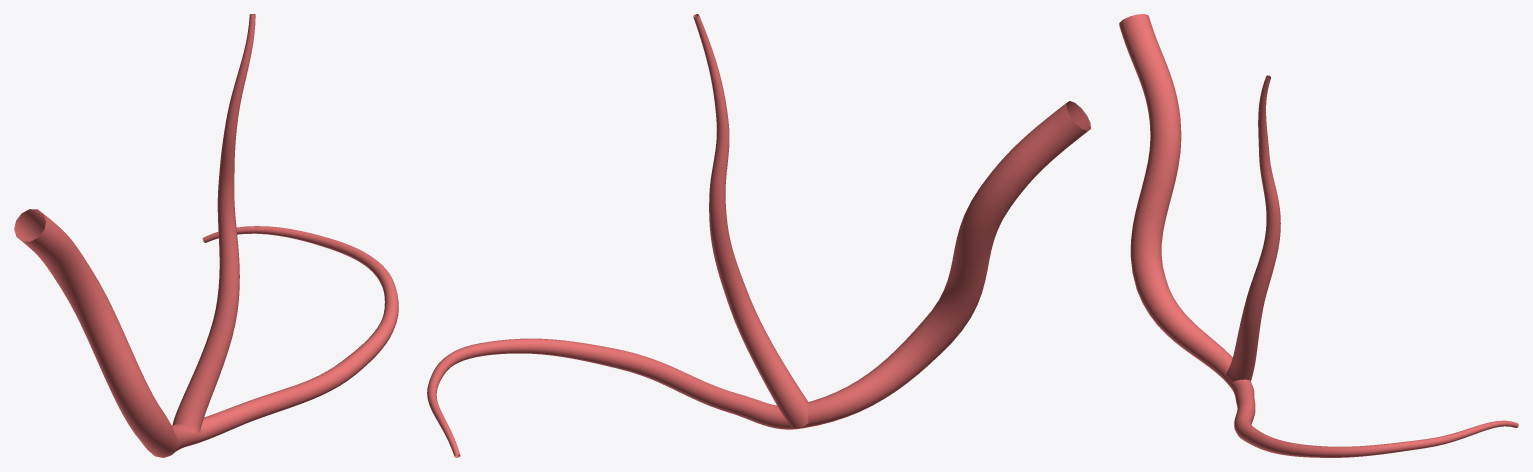
File: Lateral_circumflex_femoral_artery.l_BezierCurve.150.glb
The picture shows the model from 3 angles, left to right: view 1: azimuth 30°, elevation 25°; view 2: azimuth 150°, elevation 25°; view 3: azimuth 270°, elevation 25°; orthographic projection. The views are drawn at different scales.
Visible parts, largest first — view 1: Lateral_circumflex_femoral_artery.l_BezierCurve.150; view 2: Lateral_circumflex_femoral_artery.l_BezierCurve.150; view 3: Lateral_circumflex_femoral_artery.l_BezierCurve.150.
Boxes of the visible parts, bbox=[...] form: Lateral_circumflex_femoral_artery.l_BezierCurve.150: bbox=[14, 14, 398, 457]; Lateral_circumflex_femoral_artery.l_BezierCurve.150: bbox=[427, 14, 1090, 457]; Lateral_circumflex_femoral_artery.l_BezierCurve.150: bbox=[1119, 14, 1518, 457].
Bounding box in the file's own units: 0.0953 × 0.0734 × 0.0758.
